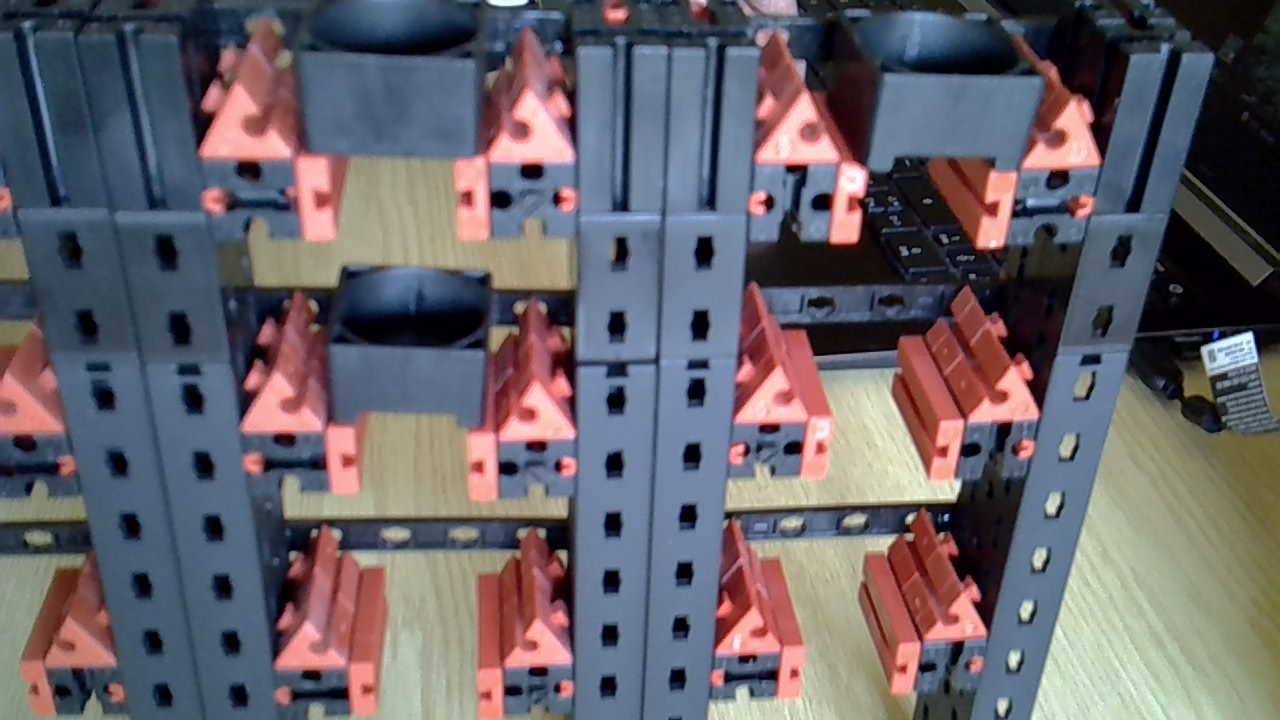Behaelter: (812, 6, 1040, 177), (297, 1, 483, 157), (332, 264, 486, 424)
